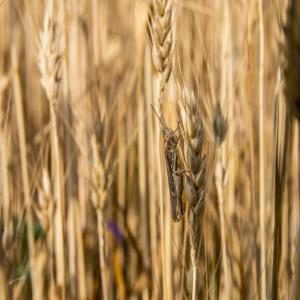locust: (150, 98, 197, 224)
